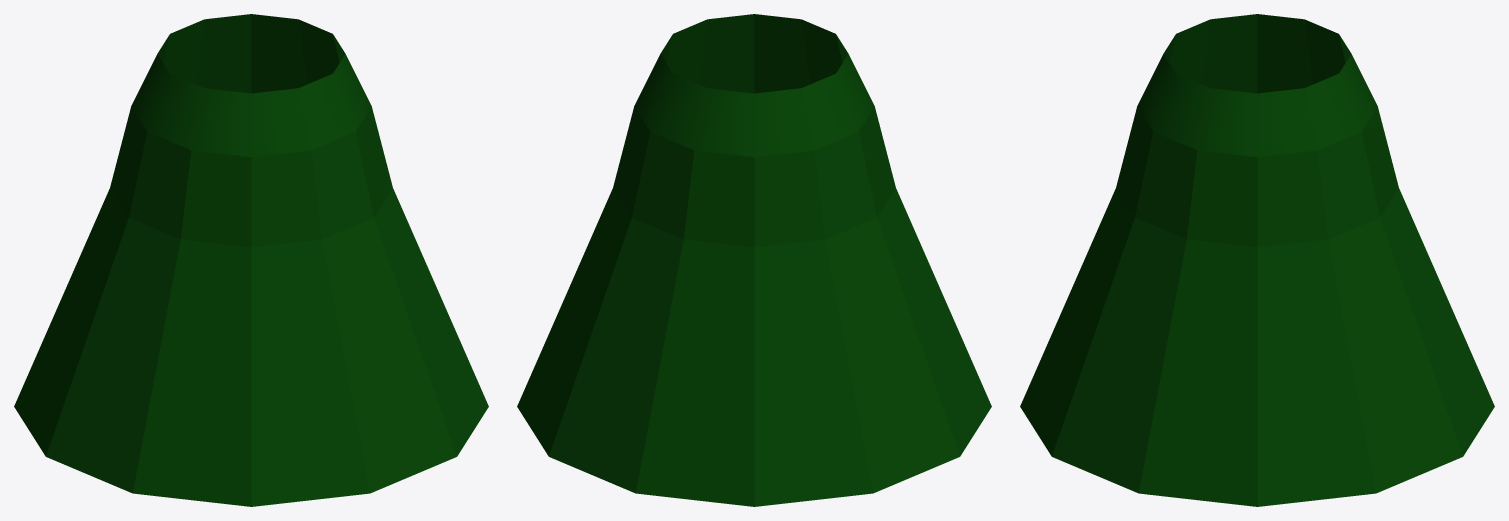
The model's file is MS_MortarBarrel.fbx.
The picture shows the model from 3 angles, left to right: view 1: azimuth 30°, elevation 25°; view 2: azimuth 150°, elevation 25°; view 3: azimuth 270°, elevation 25°; orthographic projection.
Visible parts, largest first — view 1: pCylinder1; view 2: pCylinder1; view 3: pCylinder1.
Part boxes in pixels (x1,y1,x2,y2): pCylinder1: (14, 14, 488, 506); pCylinder1: (517, 14, 991, 506); pCylinder1: (1020, 14, 1494, 506).
Bounding box in the file's own units: 6.99 × 5.73 × 6.99.
